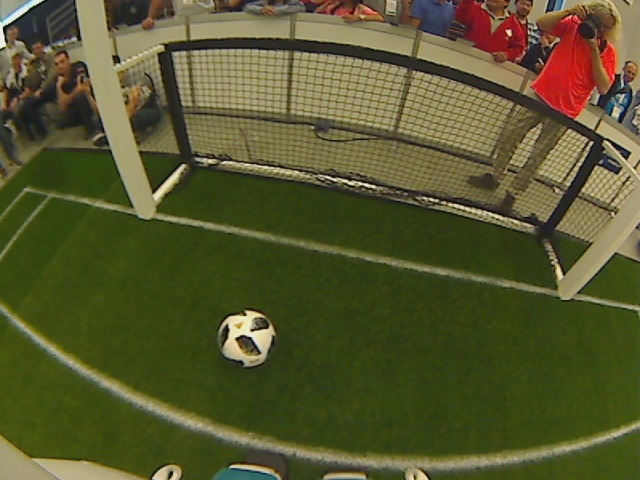ball: (216, 310, 276, 367)
